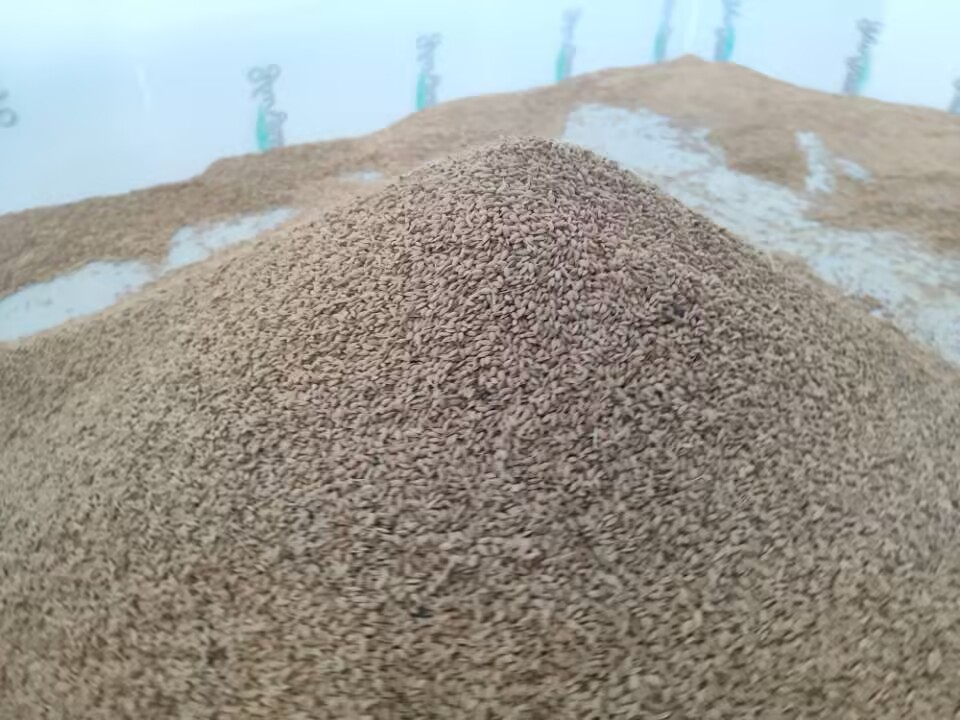Grain: (132, 139, 870, 663)
